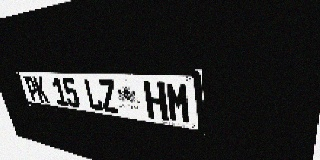1: (50, 77, 69, 106)
5: (61, 77, 81, 108)
H: (143, 81, 168, 121)
K: (32, 76, 50, 103)
L: (83, 78, 104, 111)
M: (165, 82, 192, 124)
P: (23, 76, 40, 102)
Z: (97, 79, 120, 114)
